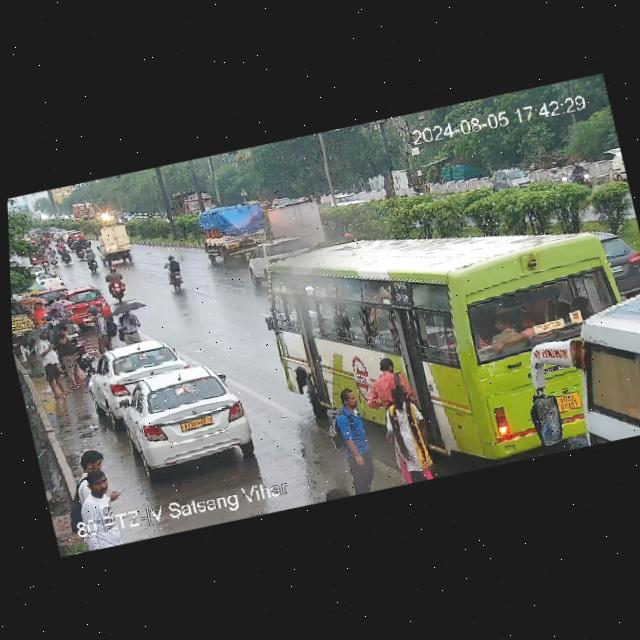bus: (253, 178, 640, 439), (513, 291, 640, 455)
car: (114, 358, 262, 477), (87, 334, 188, 413), (241, 233, 316, 289), (485, 159, 539, 199), (64, 285, 108, 324), (331, 185, 375, 213), (26, 265, 68, 294), (28, 246, 50, 267), (67, 230, 86, 241)
motorcycle: (101, 259, 132, 304), (158, 253, 191, 294), (570, 157, 602, 194), (83, 246, 101, 274), (408, 183, 427, 204), (58, 244, 73, 267), (45, 245, 60, 268), (73, 241, 87, 262), (55, 238, 68, 257), (82, 237, 93, 252)
person: (56, 446, 133, 551), (313, 384, 381, 500), (373, 379, 440, 487), (30, 327, 72, 402), (364, 348, 414, 406), (48, 324, 88, 391), (84, 299, 119, 356), (116, 301, 147, 346)
truck: (195, 197, 278, 264), (263, 191, 334, 257), (166, 185, 222, 227), (93, 219, 137, 269), (69, 198, 100, 227)
